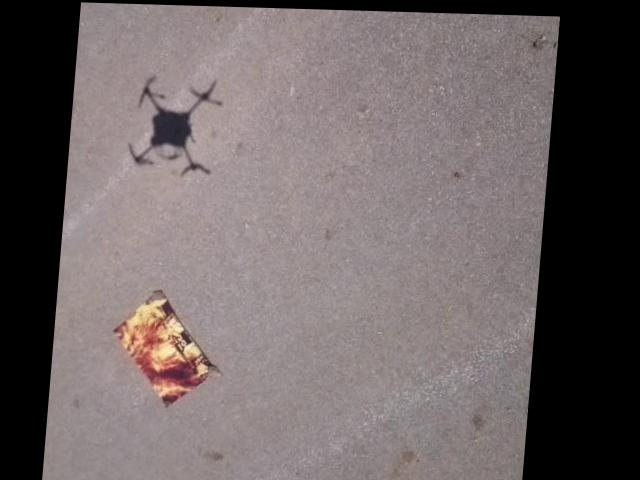fire-poster: (110, 284, 233, 409)
